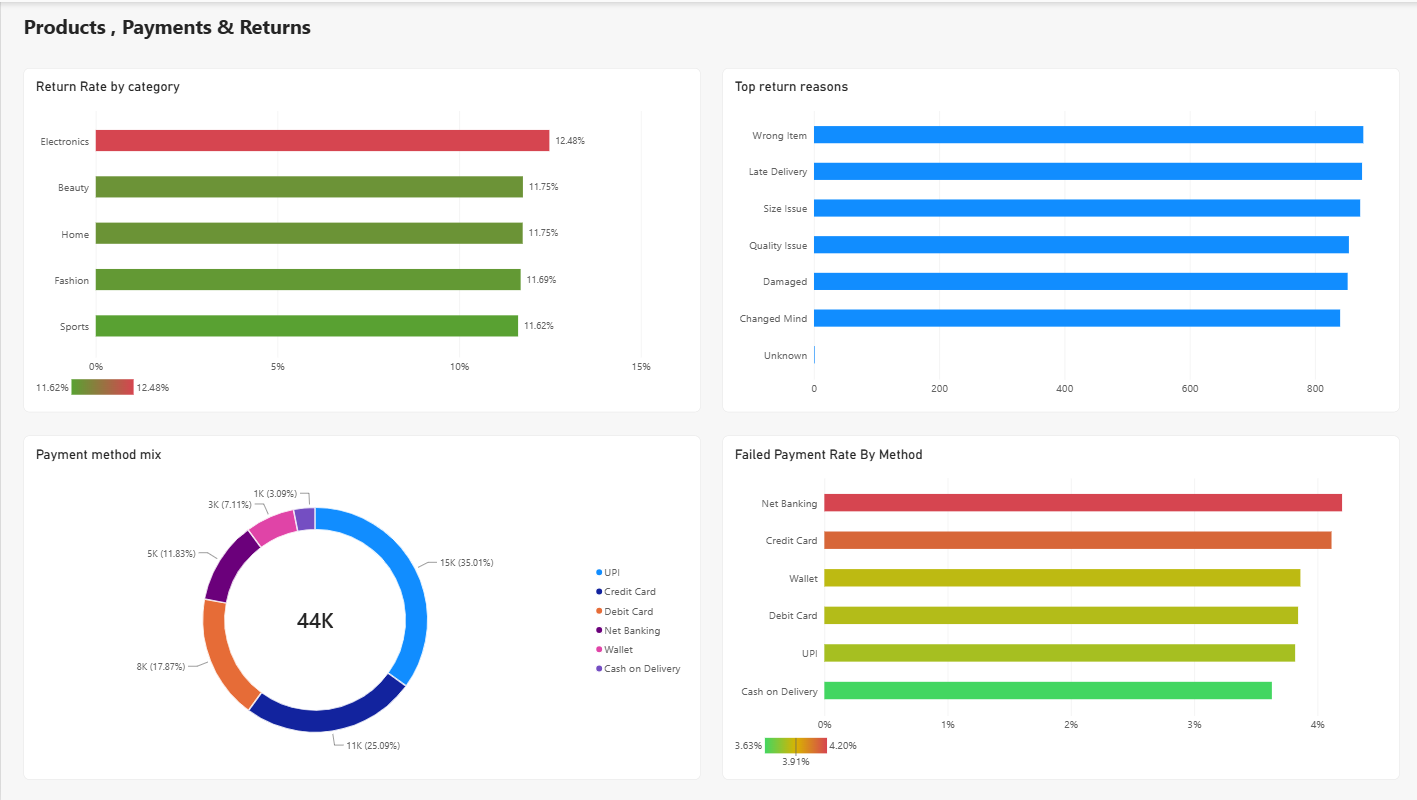

The dashboard page shown, as its layout file describes it:
{"tool":"powerbi","page":{"name":"Products , Payments & Returns","canvas":[1920,1080],"ordinal":2},"visuals":[{"type":"textbox","box":[30,15,900,60],"z":0},{"type":"clusteredBarChart","fields":{"Category":["dim_products.category"],"Y":["fact_orders.Return Rate"]},"box":[30,90,915,465],"z":1},{"type":"clusteredBarChart","title":"Top return reasons","fields":{"Category":["fact_orders.return_reason"],"Y":["fact_orders.Returned Orders"]},"box":[975,90,915,465],"z":2},{"type":"donutChart","title":"Payment method mix","fields":{"Category":["fact_orders.payment_method"],"Y":["fact_orders.Total Orders"]},"box":[30,585,915,465],"z":3},{"type":"clusteredBarChart","title":"Failed Payment Rate By Method","fields":{"Category":["fact_orders.payment_method"],"Y":["fact_orders.Failed Payment Rate"]},"box":[975,585,915,465],"z":4}]}

Visuals, with their boxes in screenshot pixels (x1, y1, x2, y2), scaled from the page's 1920x1080 canvas onto the 1417x800 screenshot:
textbox: bbox(22, 11, 686, 56)
clusteredBarChart - dim_products.category x fact_orders.Return Rate: bbox(22, 67, 697, 411)
"Top return reasons" clusteredBarChart: bbox(720, 67, 1395, 411)
"Payment method mix" donutChart: bbox(22, 433, 697, 778)
"Failed Payment Rate By Method" clusteredBarChart: bbox(720, 433, 1395, 778)
